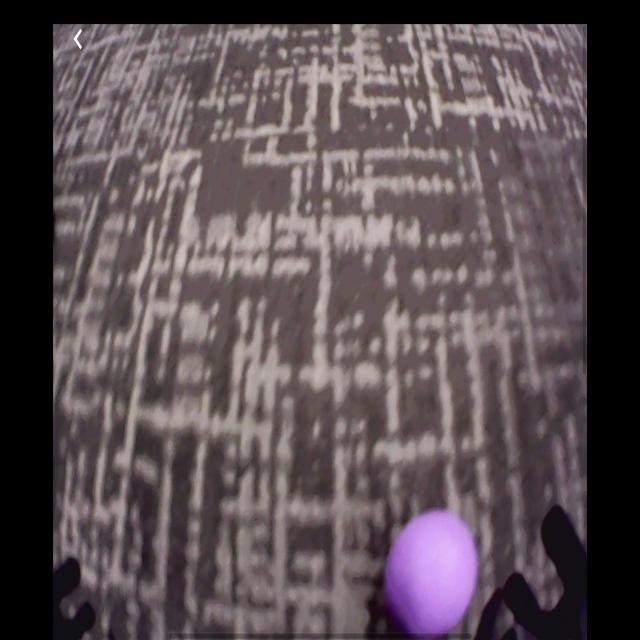ball: (388, 511, 480, 639)
